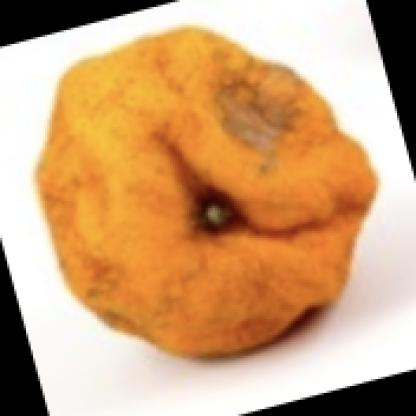rotten: (35, 30, 367, 355)
